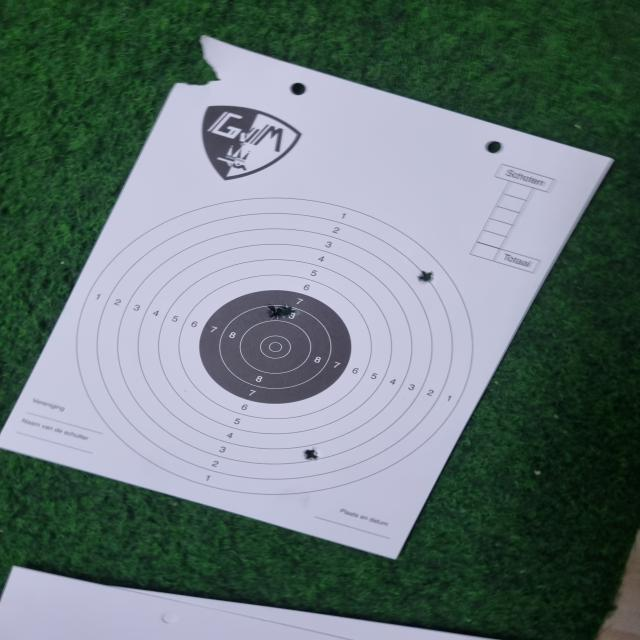2: (415, 270, 441, 286)
3: (300, 446, 320, 462)
8: (267, 306, 282, 319)
Target: (70, 195, 482, 498)
black_contour: (201, 290, 357, 402)
